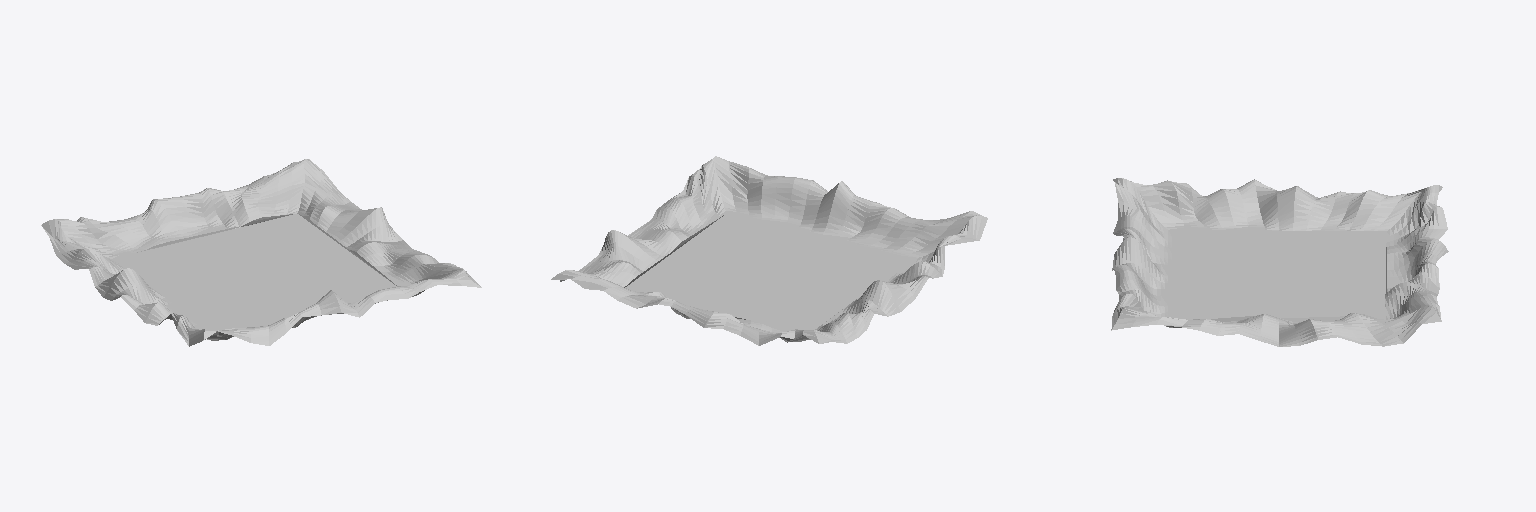
Rendered from Terrain_first.obj.
3 renders of one model, left to right at view 1: azimuth 30°, elevation 25°; view 2: azimuth 150°, elevation 25°; view 3: azimuth 270°, elevation 25°, orthographic.
Parts seen in each view (by area): view 1: Plane; view 2: Plane; view 3: Plane.
Part boxes in pixels (x1,y1,x2,y2): Plane: (41,159,481,346); Plane: (551,156,987,345); Plane: (1111,178,1448,346).
Size of the model in its own units: 511 by 64.96 by 504.